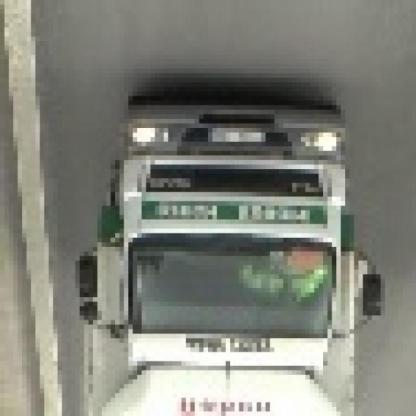truck: (85, 79, 391, 416)
